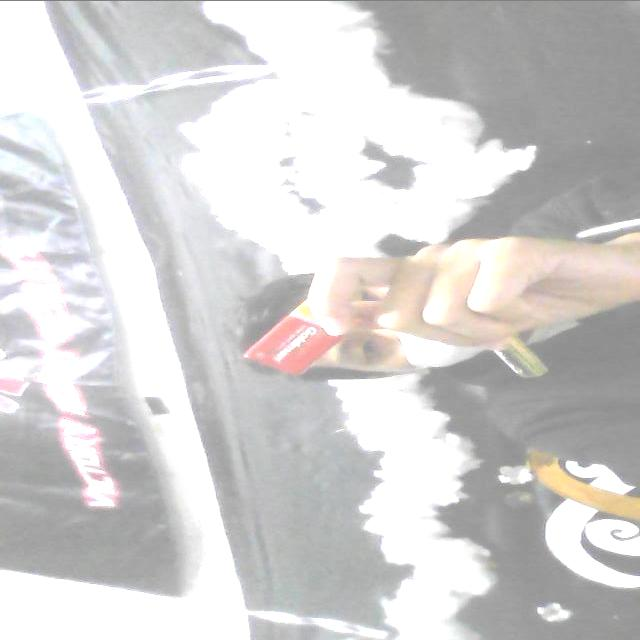9V: (235, 290, 362, 380)
